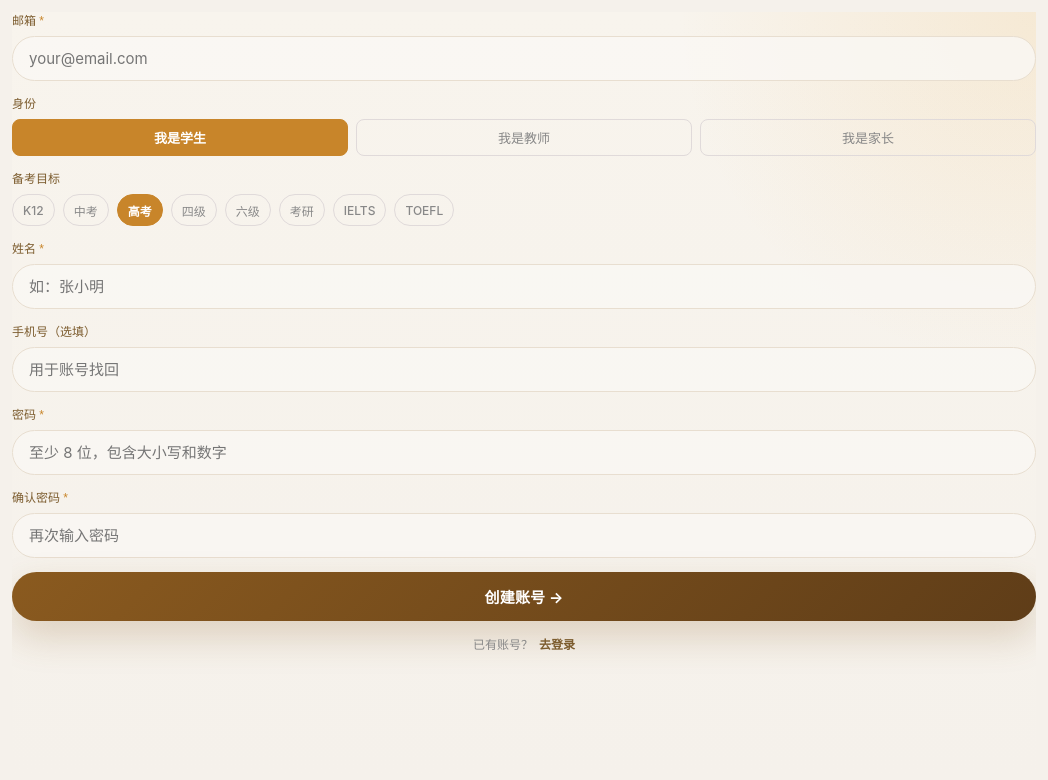
core user paths › allows parent identity during registration
Click the button "我是家长" at [868, 138], box [700,119,1036,156]
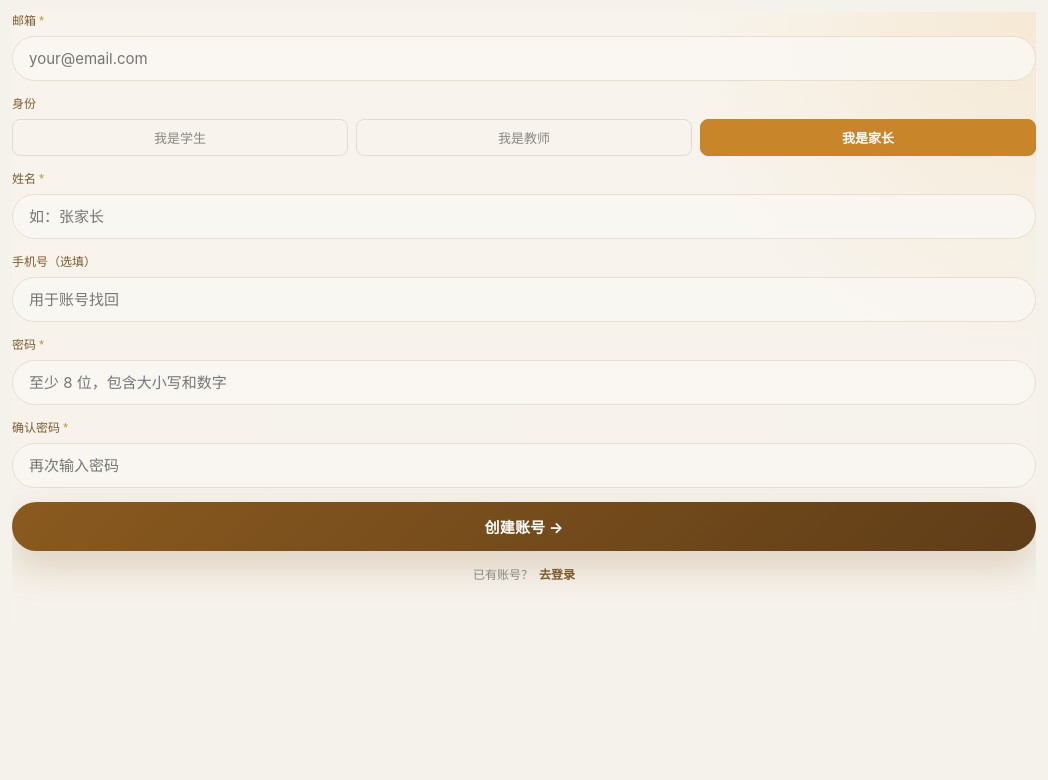
Expected: the field with placeholder "如：张家长" is shown, [12,194,1036,239]
